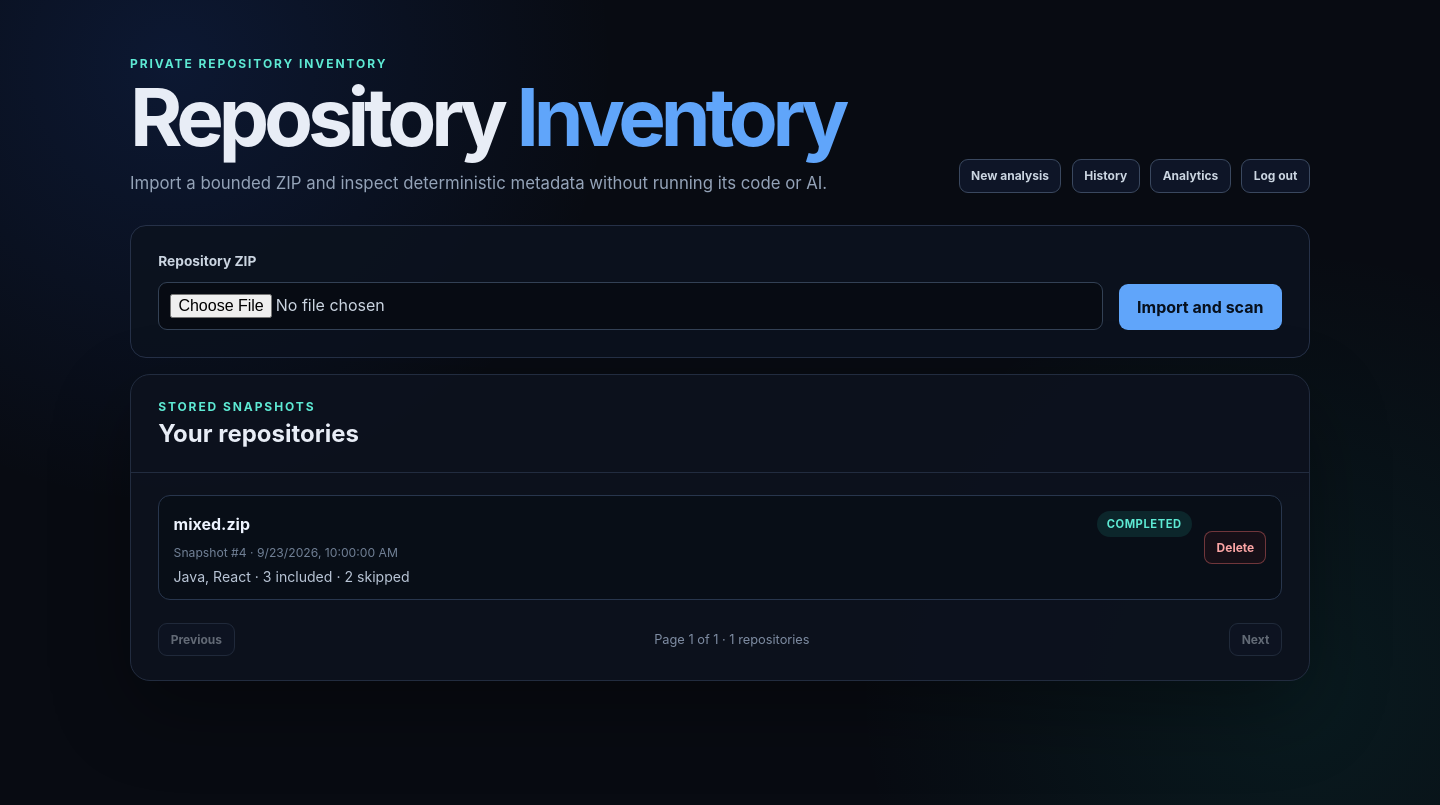
Test: RepositoriesPage › renders bounded inventory metadata and loads details without source bodies
Click the text "mixed.zip". click: x=212, y=524
box: x1=174 y1=514 x2=250 y2=534
(page scrolled)
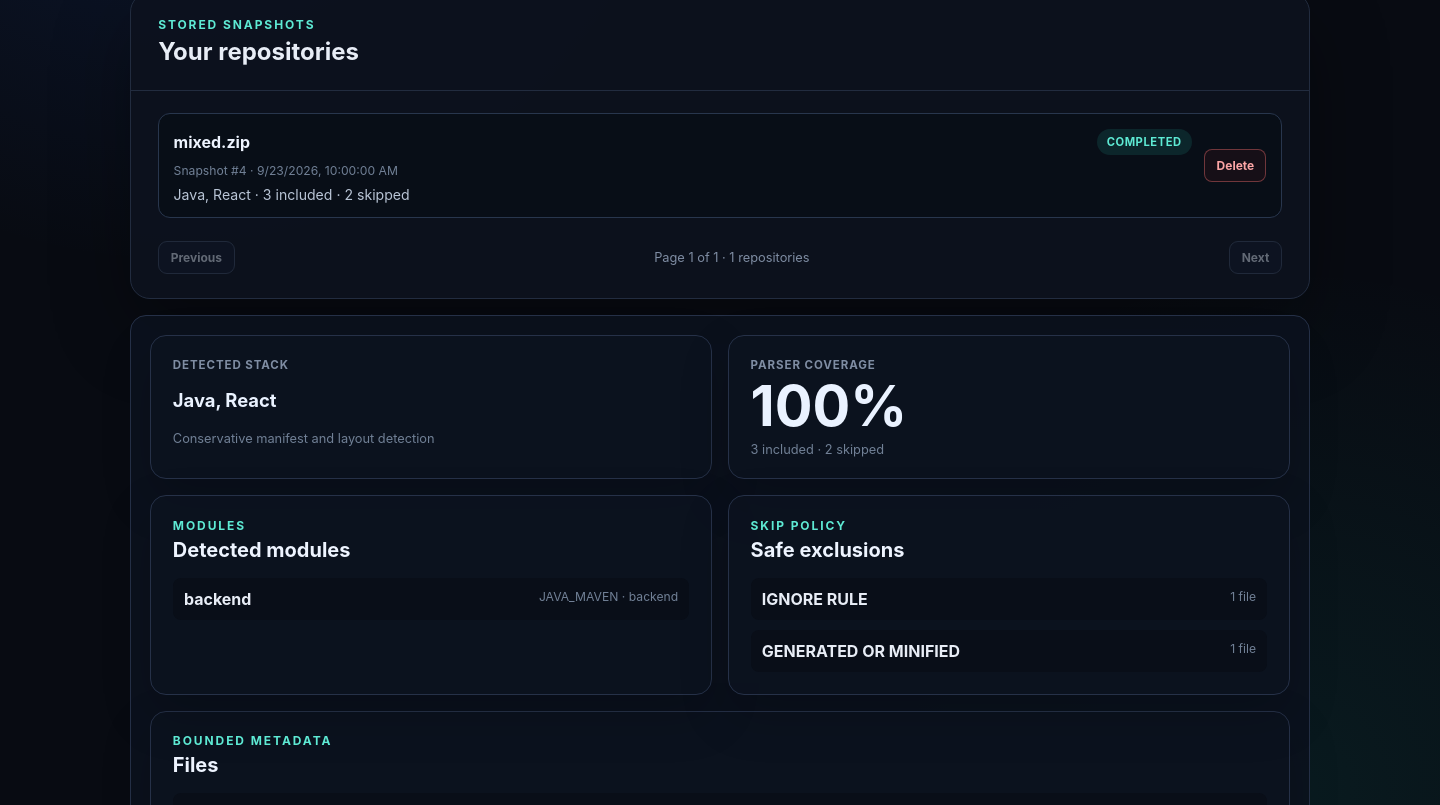
expect the text "100%" is shown: met, box x1=751 y1=372 x2=907 y2=440
